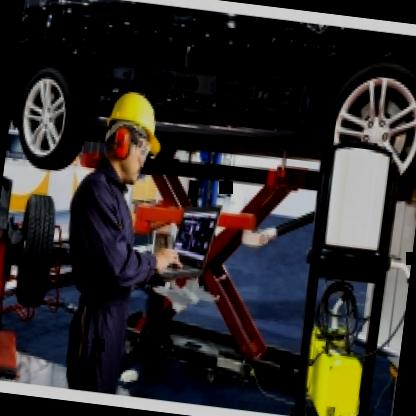helmet: (92, 79, 166, 192)
